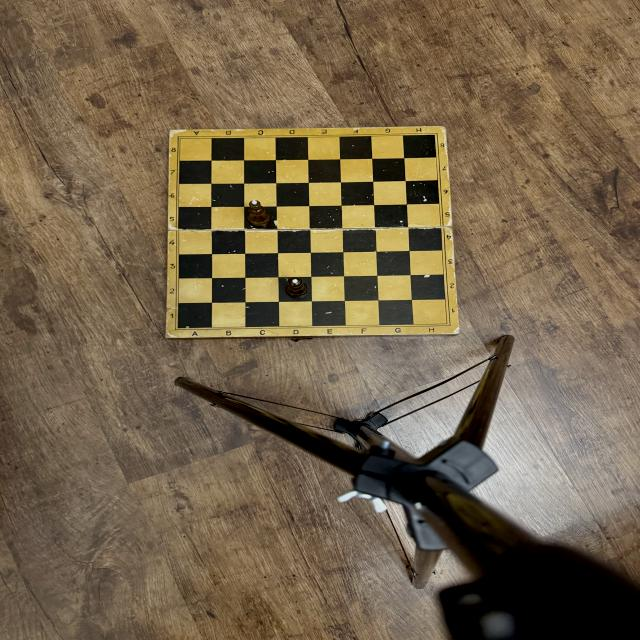black-king: (248, 199, 271, 227)
black-queen: (286, 276, 307, 298)
